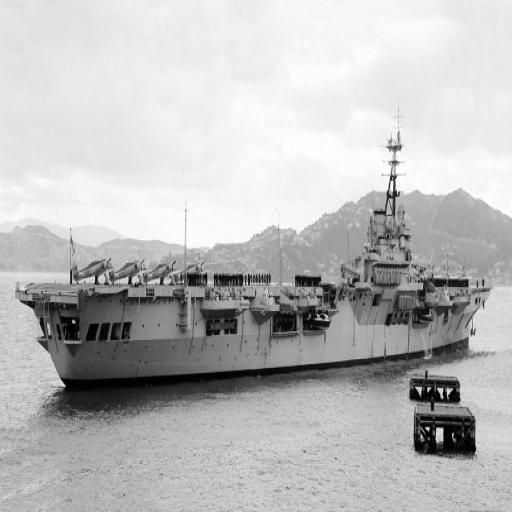Portanaves: (14, 86, 494, 392)
